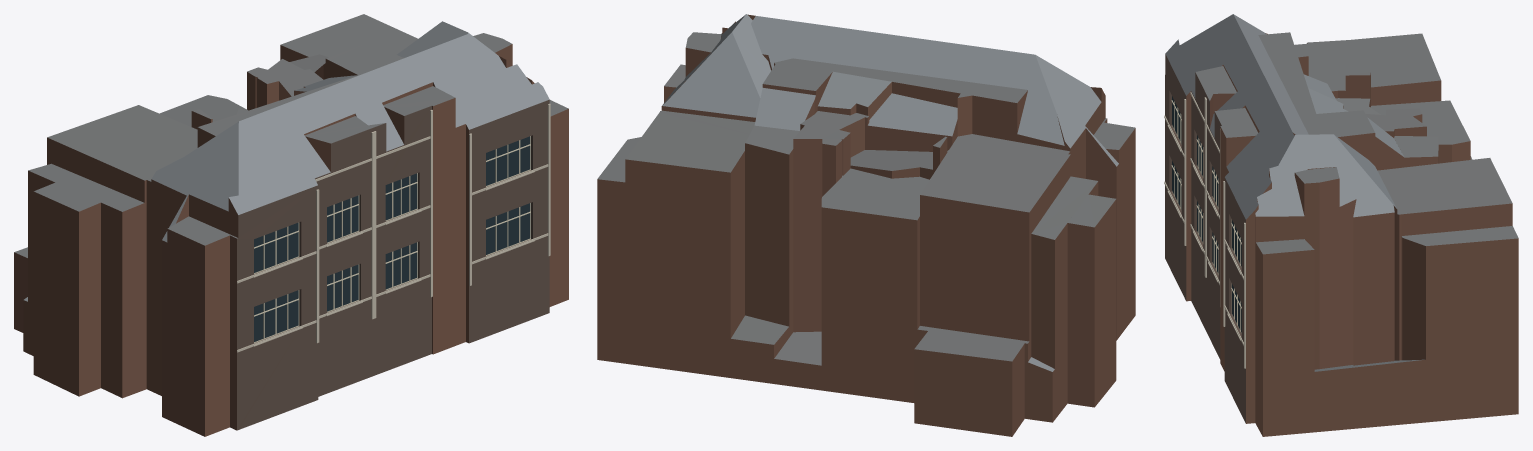
The model's file is recipe-large-montessori-van-ostade.glb.
3 renders of one model, left to right at view 1: azimuth 30°, elevation 25°; view 2: azimuth 150°, elevation 25°; view 3: azimuth 270°, elevation 25°, orthographic. The views are drawn at different scales.
Parts seen in each view (by area): view 1: montessori-van-ostade; view 2: montessori-van-ostade; view 3: montessori-van-ostade.
Boxes of the visible parts, x1,y1,x2,y2 form: montessori-van-ostade: (14,14,568,436); montessori-van-ostade: (597,14,1135,436); montessori-van-ostade: (1164,14,1518,436).
Bounding box in the file's own units: 36.31 × 19.96 × 24.38.
